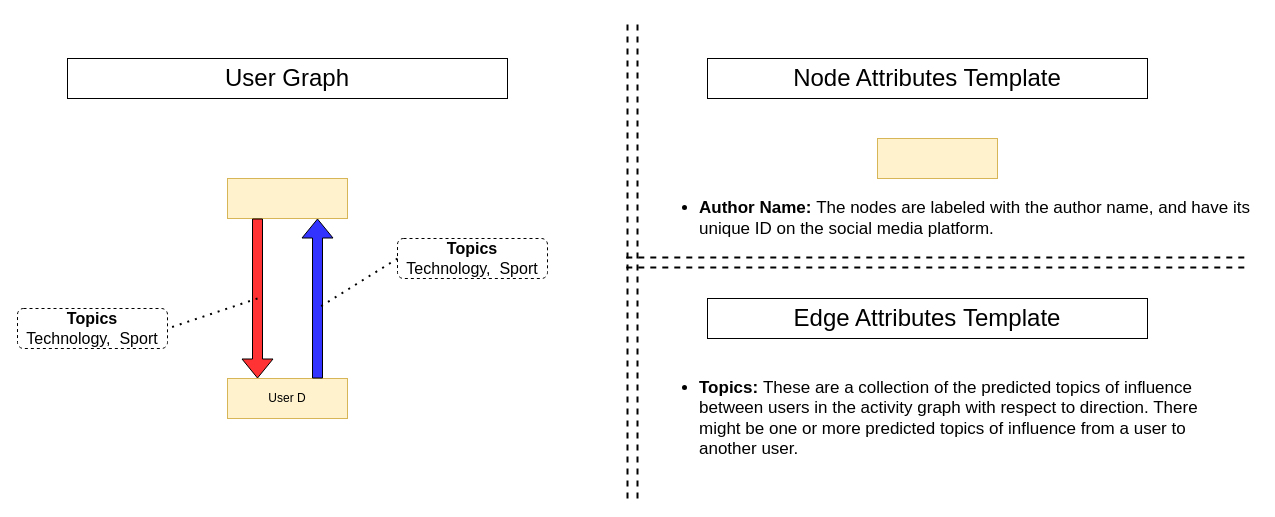
Image size: 1275x517. Some labels were removed from this diagram. The box of each missing label's shape, as (x1, y1, x2, y2) in pixels:
Author Name: (876, 138, 998, 178)
User A: (226, 178, 348, 218)
